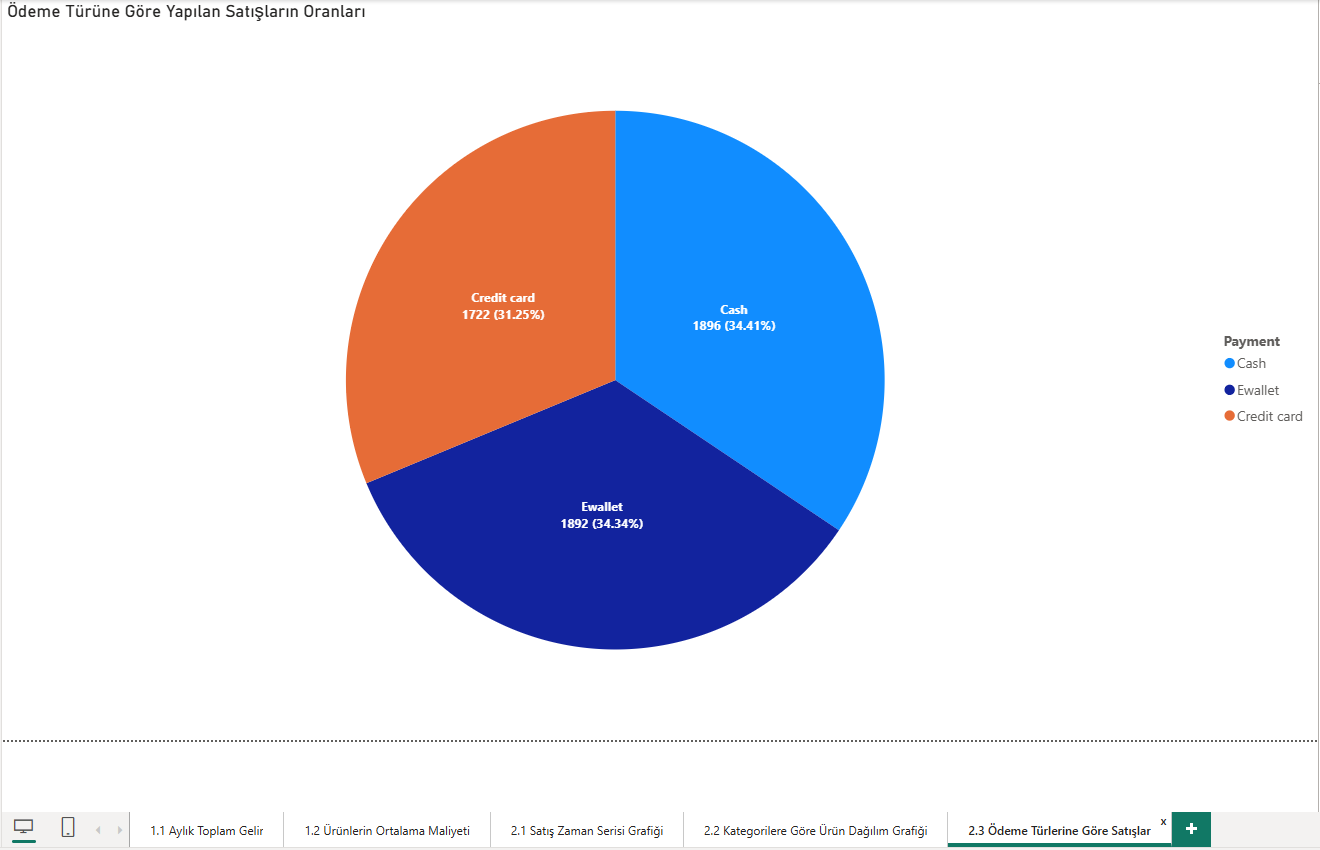

This screenshot's page, from the dashboard's own definition file:
{"tool":"powerbi","page":{"name":"2.3 Ödeme Türlerine Göre Satışlar","canvas":[1280,720],"ordinal":4},"visuals":[{"type":"pieChart","title":"Ödeme Türüne Göre Yapılan Satışların Oranları","fields":{"Category":["supermarket_sales - Sheet1.Payment"],"Y":["Sum(supermarket_sales - Sheet1.Quantity)"]},"box":[0,0,1280,720.4],"z":0}]}

Visuals, with their boxes on the page's 1280x720 design canvas (x1, y1, x2, y2). These are canvas units, not pixel positions in the 1320x850 screenshot, which may show the page scaled, cropped or inside an application window:
"Ödeme Türüne Göre Yapılan Satışların Oranları" pieChart: <box>0,0,1280,720</box>
